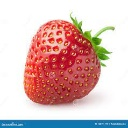strawberry: (19, 11, 113, 106)
